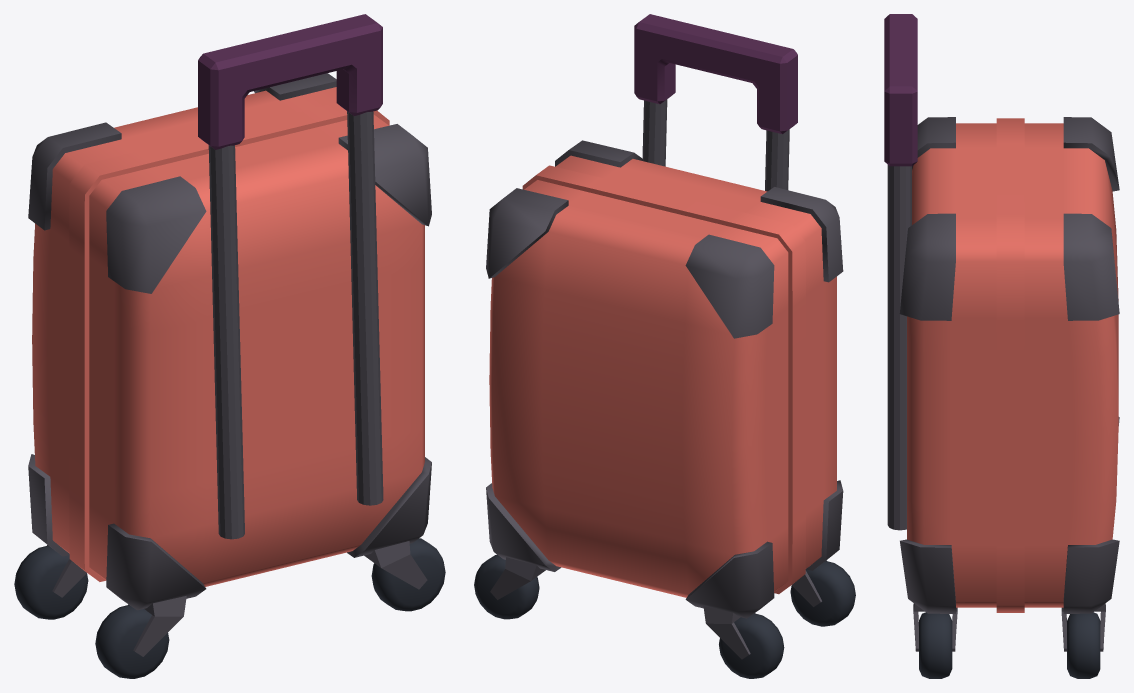
File: SM_Item_05.fbx
3 renders of one model, left to right at view 1: azimuth 30°, elevation 25°; view 2: azimuth 150°, elevation 25°; view 3: azimuth 270°, elevation 25°, orthographic. The views are drawn at different scales.
Parts seen in each view (by area): view 1: Box2415; view 2: Box2415; view 3: Box2415.
Part boxes in pixels (x1,y1,x2,y2): Box2415: (14, 14, 445, 678); Box2415: (474, 14, 855, 678); Box2415: (884, 14, 1119, 678).
Bounding box in the file's own units: 2.18 × 3.77 × 1.42.
